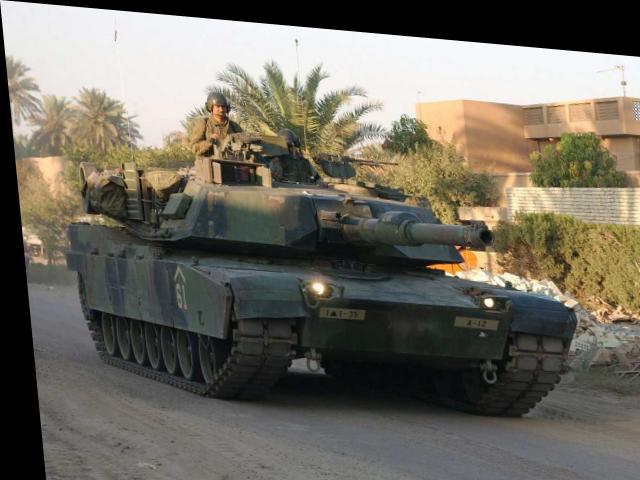other: (174, 78, 251, 153)
tank: (68, 151, 547, 409)
